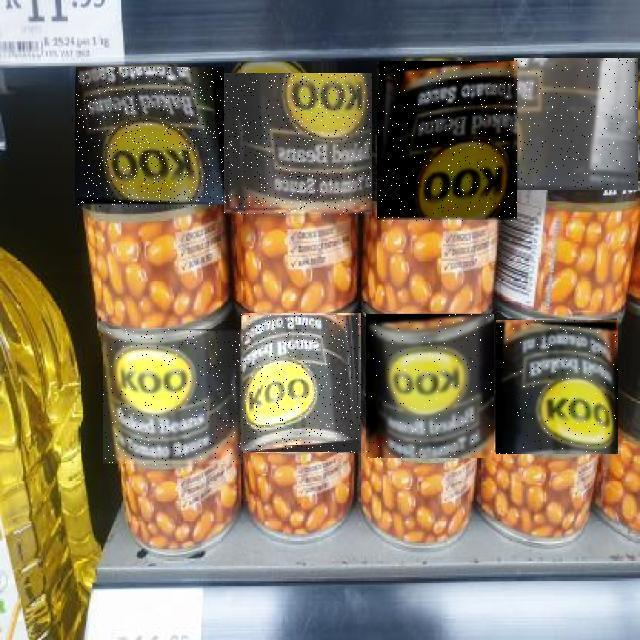Beans: (377, 62, 517, 222), (225, 74, 373, 216), (76, 68, 224, 208), (103, 330, 243, 466), (366, 314, 494, 458), (241, 313, 361, 453), (514, 58, 638, 190), (496, 320, 618, 454)
